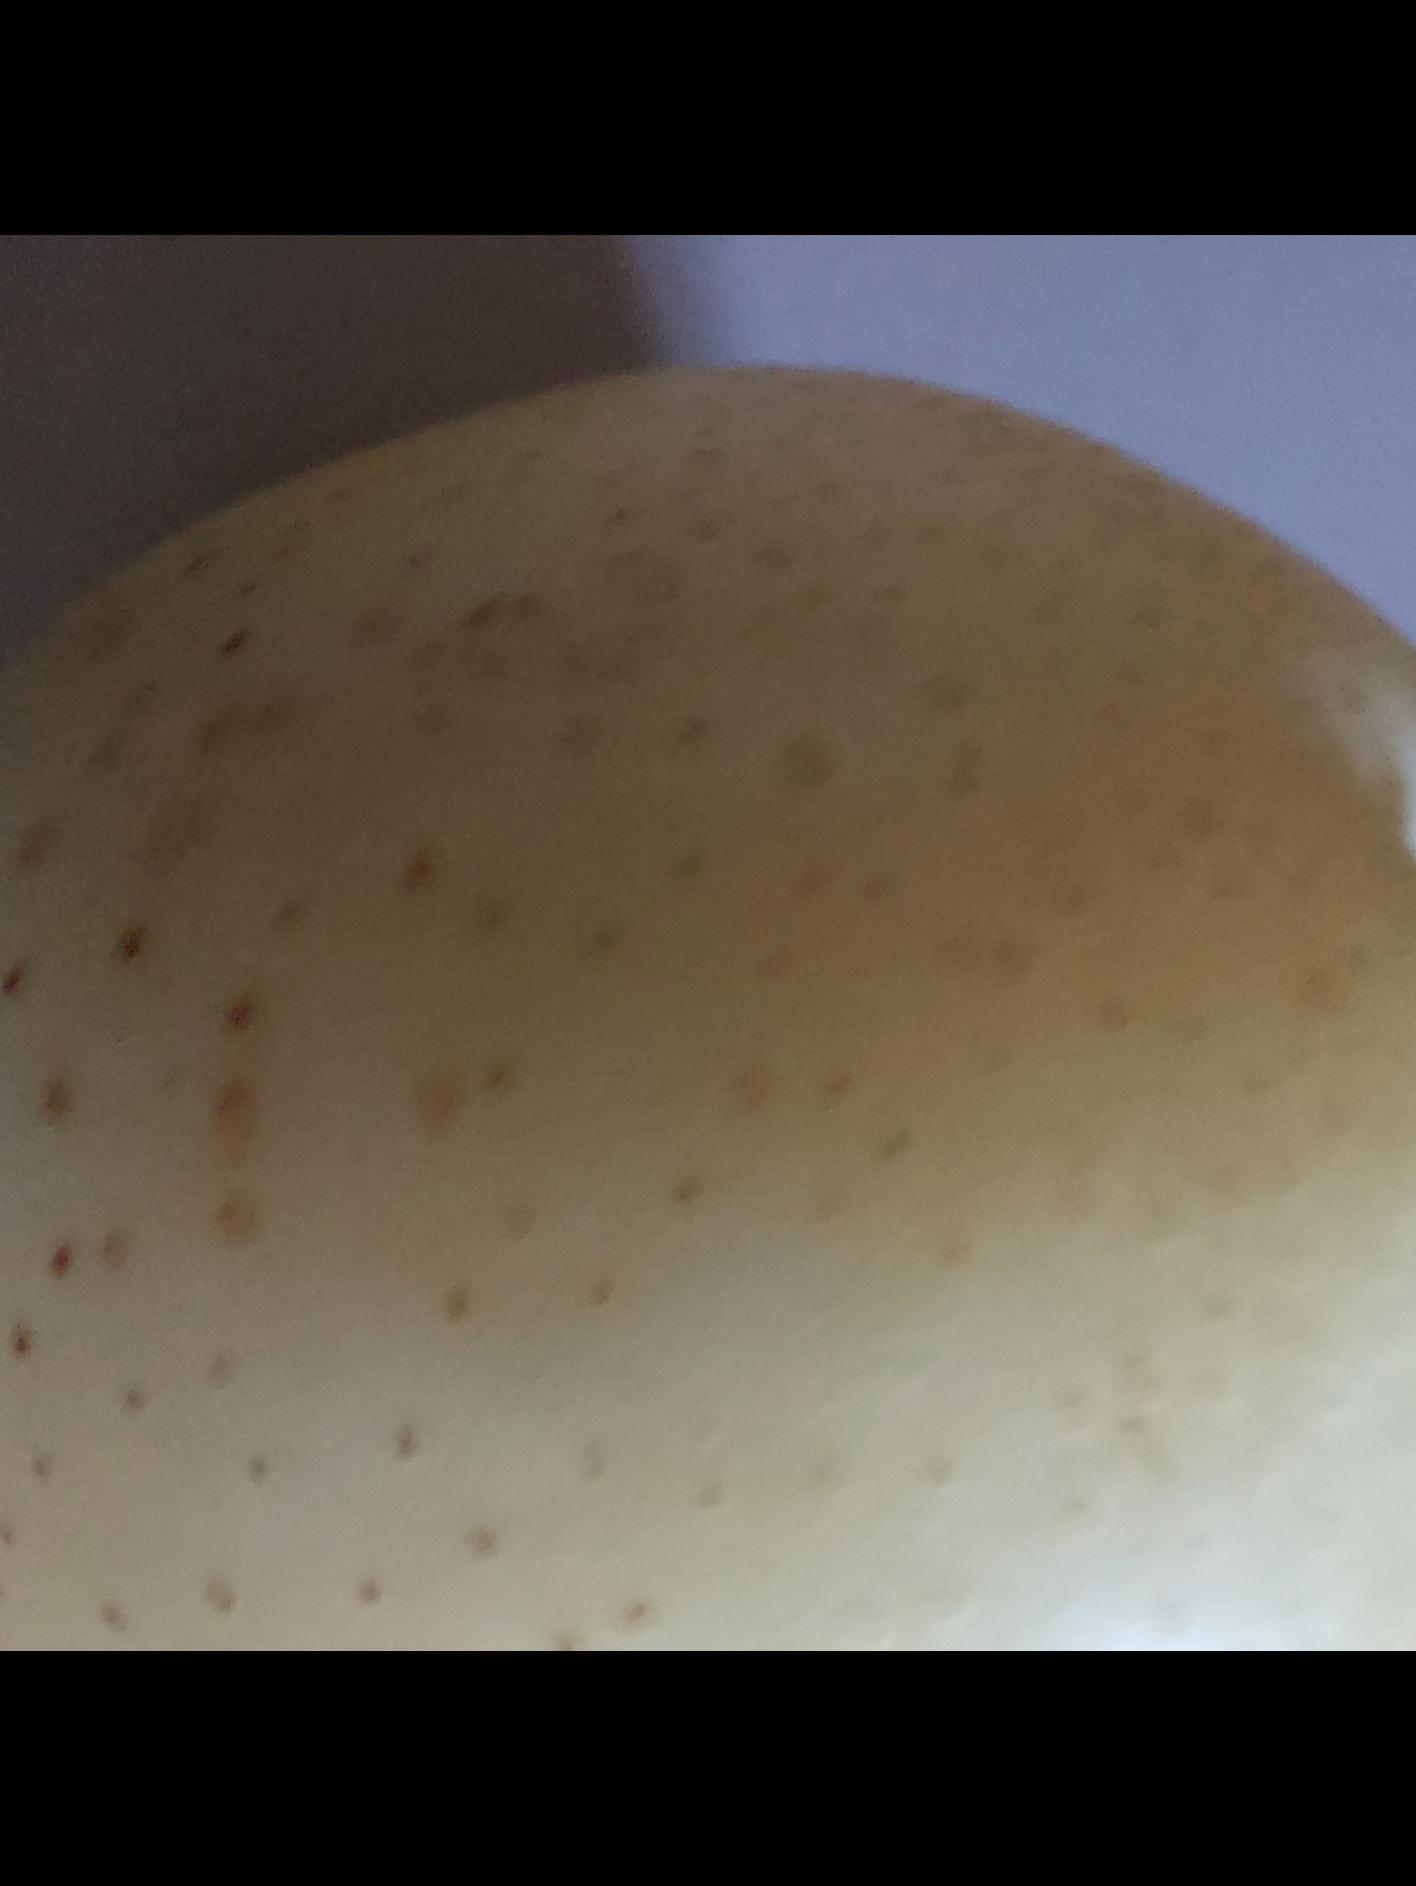Good Pear: (0, 367, 1416, 1651)
